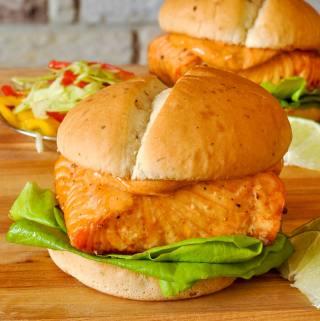hamburger_buns: (65, 59, 295, 185)
